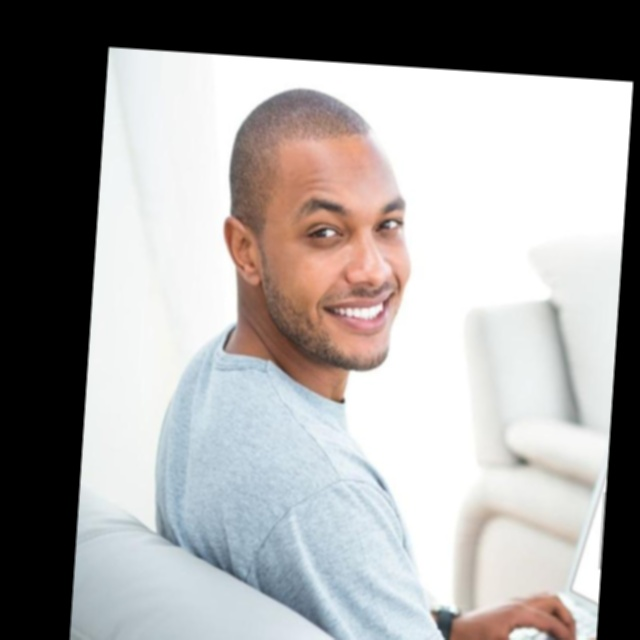Sin_Casco_Mascarrilla: (214, 82, 423, 371)
